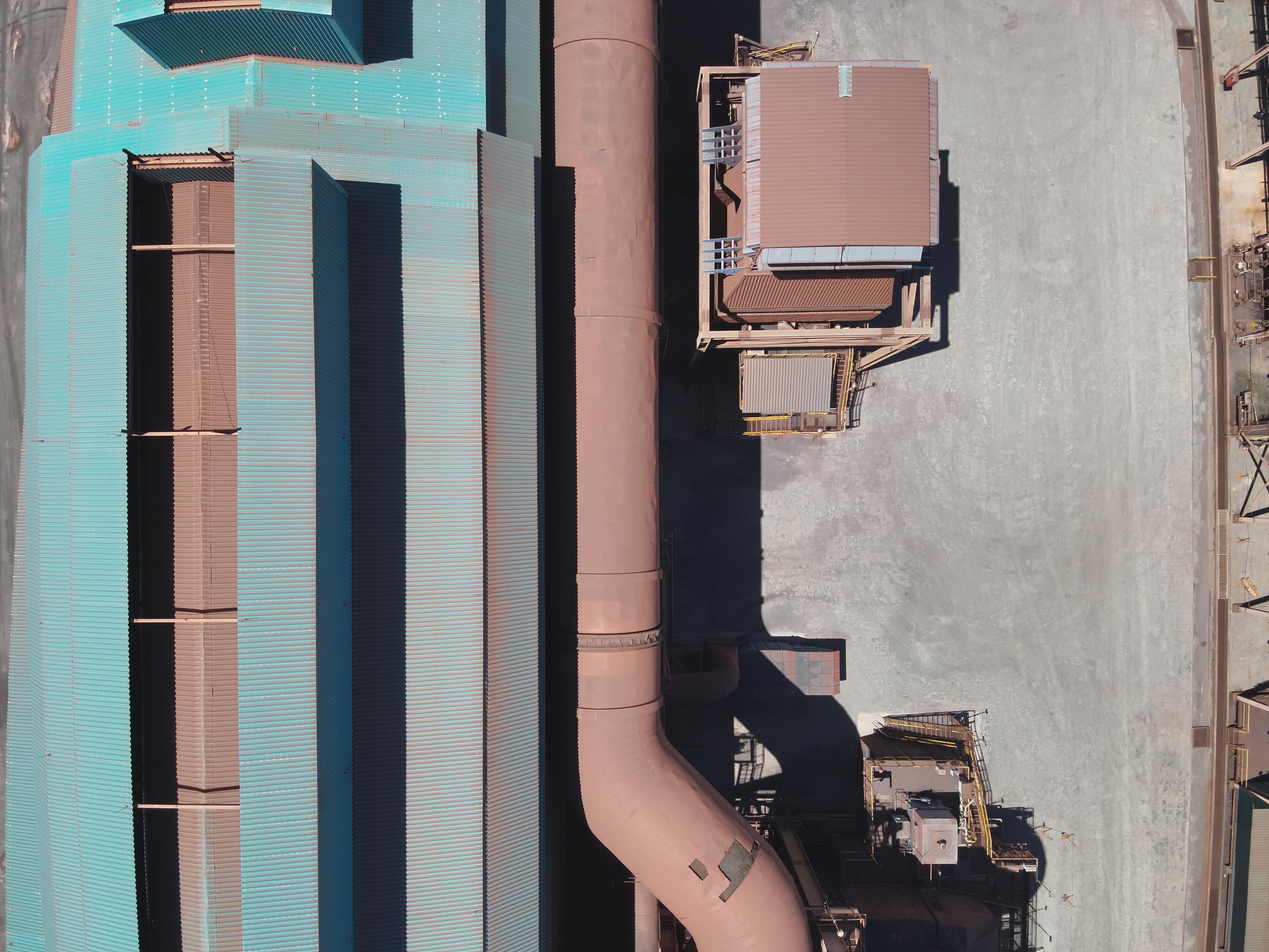Failures: (716, 827, 771, 919), (684, 853, 712, 888)
